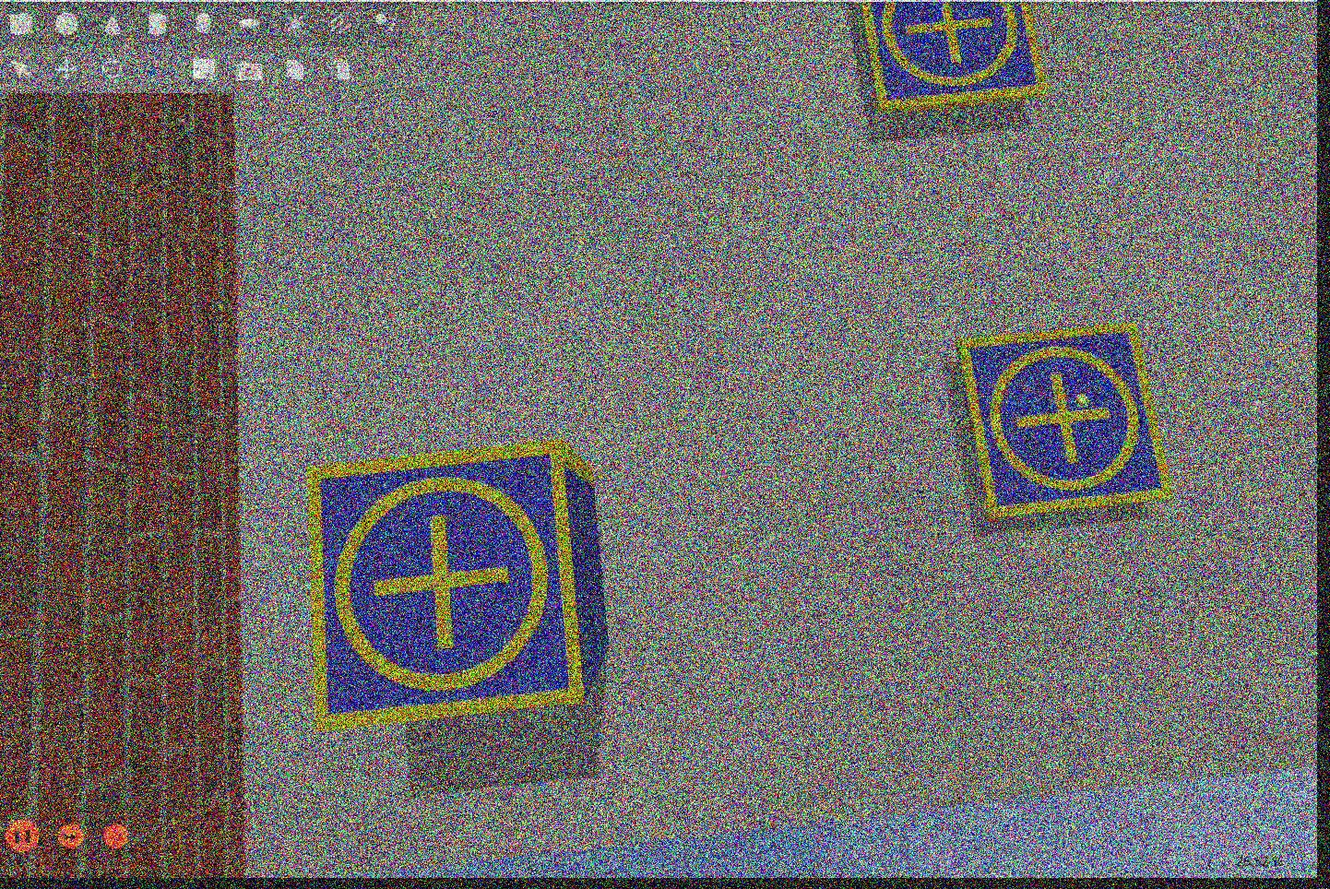small_base: (306, 441, 592, 735), (954, 321, 1179, 521), (861, 1, 1051, 113)
